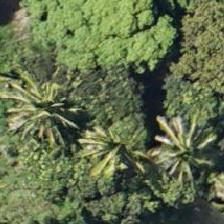coconut_tree: (61, 111, 151, 201), (139, 108, 223, 198), (0, 57, 76, 147)
